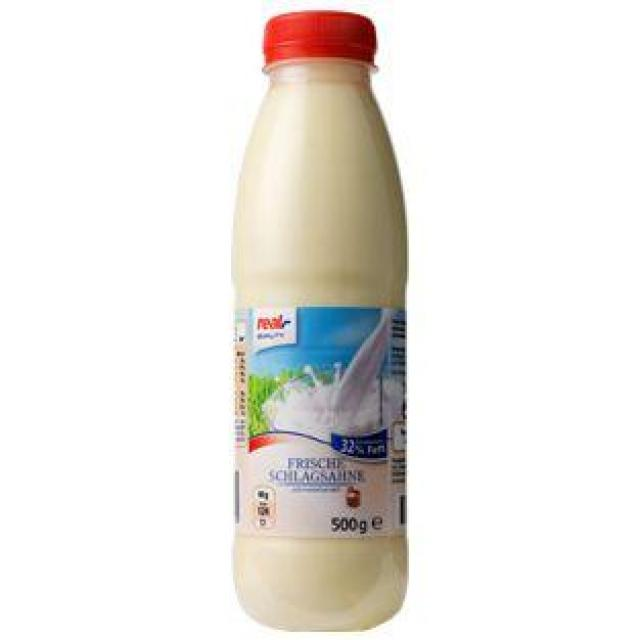Cream: (233, 10, 405, 628)
